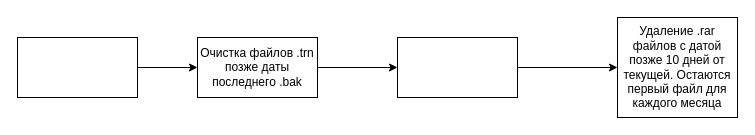
Some shapes in this 755 by 135 pixel diagram are drawn without their labels. Each missing label, with the box of its shape:
1. Определить папку с архивами (D:/1c8BackUp/): (16, 36, 138, 98)
Архивация winrar всех .bak файлов в отдельный архив: (396, 36, 518, 98)
